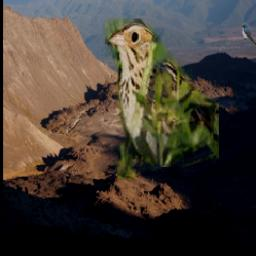Sparrow: (106, 20, 220, 181)
Swallow: (241, 23, 256, 45)
